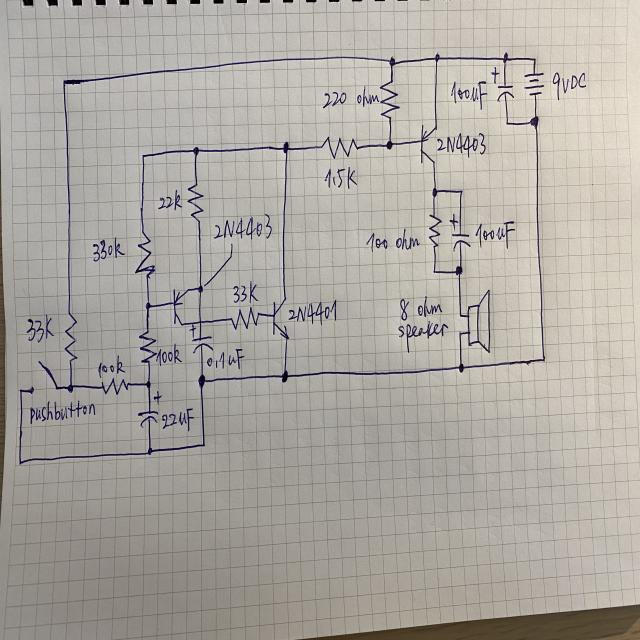capacitor: (136, 390, 162, 428), (448, 213, 472, 252), (490, 66, 514, 103), (189, 324, 214, 354)
crossover: (198, 319, 203, 325)
junction: (281, 140, 291, 156), (529, 115, 540, 128), (387, 55, 398, 68), (197, 373, 207, 387), (280, 370, 290, 384), (66, 381, 76, 394), (144, 299, 154, 312), (385, 138, 394, 152), (454, 264, 464, 276), (457, 361, 466, 374), (192, 145, 201, 157), (145, 445, 154, 457), (60, 76, 69, 88), (144, 378, 153, 389), (431, 186, 439, 198), (433, 52, 441, 64), (17, 385, 25, 396), (501, 53, 509, 63), (139, 151, 147, 161), (540, 354, 547, 364), (17, 458, 24, 468), (531, 55, 538, 64), (200, 440, 207, 449), (431, 267, 438, 276), (458, 187, 464, 196), (197, 285, 203, 294), (504, 119, 510, 127), (458, 311, 462, 318), (458, 329, 462, 336)
resistor: (318, 133, 363, 162), (132, 229, 156, 280), (378, 77, 401, 124), (228, 305, 262, 332), (62, 310, 79, 364), (136, 328, 158, 367), (187, 182, 206, 224), (99, 377, 132, 397), (427, 212, 442, 250)
source: (523, 70, 545, 98)
switch: (29, 359, 58, 395)
text: (213, 210, 276, 242), (27, 399, 96, 427), (398, 319, 449, 354), (286, 296, 340, 326), (322, 84, 379, 110), (435, 132, 487, 159), (450, 78, 488, 111), (474, 220, 516, 249), (89, 234, 127, 266), (367, 230, 420, 252), (399, 296, 443, 322), (552, 70, 586, 102), (322, 164, 360, 192), (24, 314, 56, 345), (207, 347, 246, 372), (160, 407, 193, 432), (94, 354, 126, 379), (232, 279, 260, 305), (156, 190, 182, 213), (155, 344, 182, 366)
transistor: (268, 294, 290, 344), (165, 286, 189, 329), (418, 121, 439, 168)
